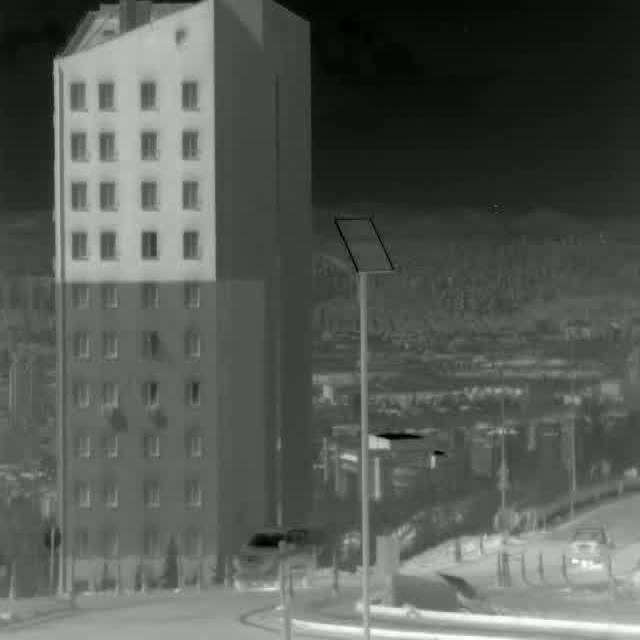Car: (233, 527, 319, 597), (566, 522, 616, 567)
